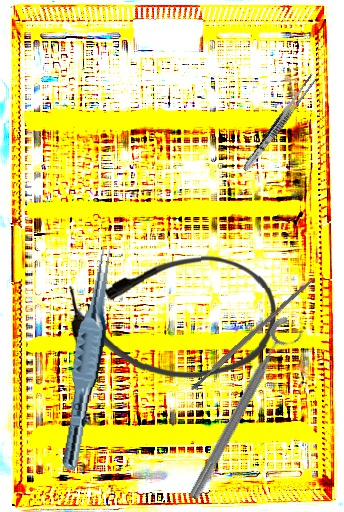Cannula: (67, 253, 279, 381)
Dressing Forceps: (240, 72, 319, 174)
Fixation Ring: (183, 313, 308, 509)
Scalpel Handle: (188, 275, 317, 392)
Tissue Forceps: (60, 244, 118, 472)
